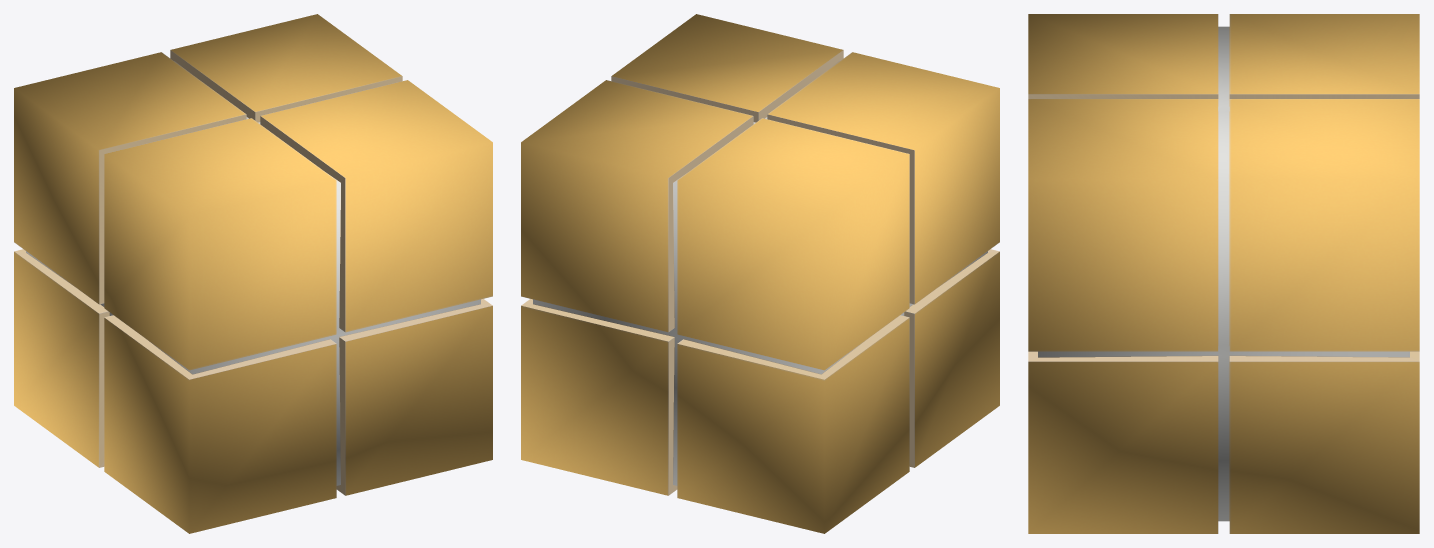
Rendered from Stage1WallModel.FBX.
3 renders of one model, left to right at view 1: azimuth 30°, elevation 25°; view 2: azimuth 150°, elevation 25°; view 3: azimuth 270°, elevation 25°, orthographic. The views are drawn at different scales.
Parts seen in each view (by area): view 1: Box006; view 2: Box006; view 3: Box006.
Boxes of the visible parts, left/top/right/bottom form: Box006: left=14, top=14, right=492, bottom=533; Box006: left=521, top=14, right=999, bottom=533; Box006: left=1028, top=14, right=1419, bottom=533.
Size of the model in its own units: 50 by 50 by 50.
1 material, 1 textured.
